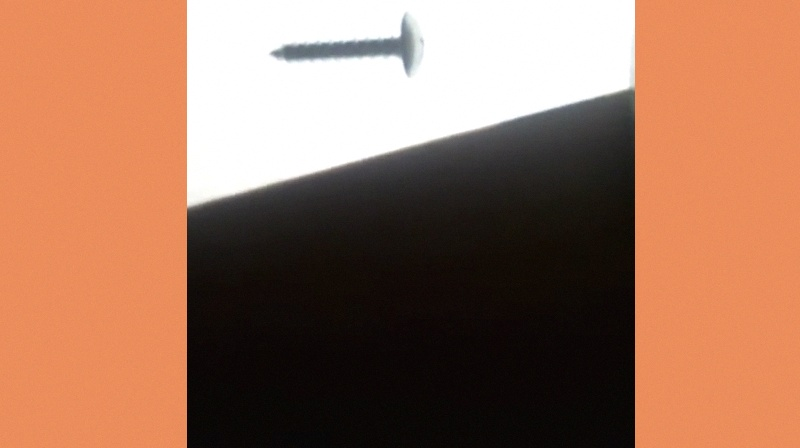S003: (266, 9, 430, 81)
